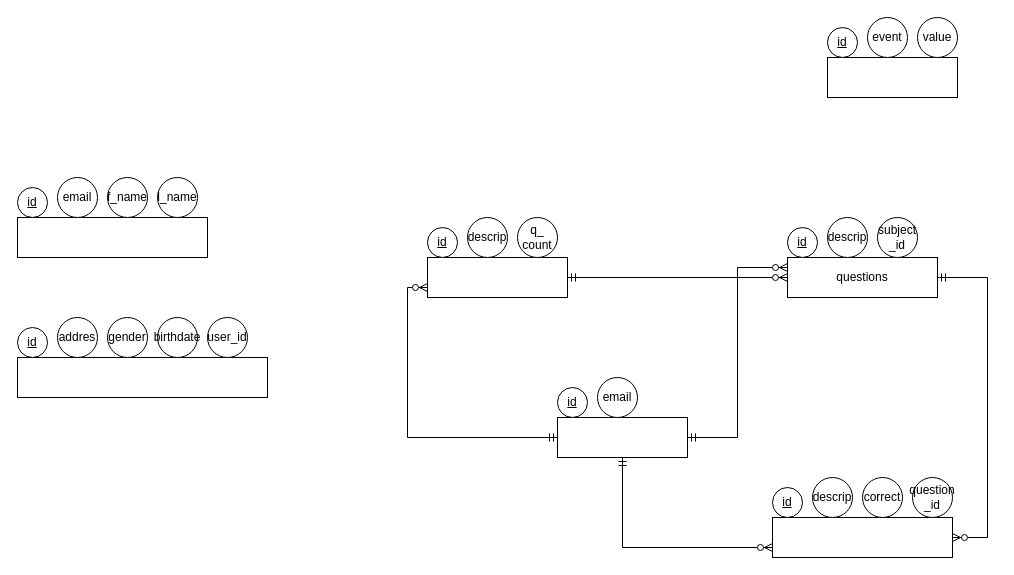
This 1014x575 diagram has some shape labels left out. Here are the shapes that lost their labels. From the top down, the box of each, then its label:
(826, 56, 958, 98): admin_statistics
(16, 216, 208, 258): users
(426, 256, 568, 298): subjects
(16, 356, 268, 398): users_profiles
(556, 416, 688, 458): admins
(772, 516, 952, 558): answers
